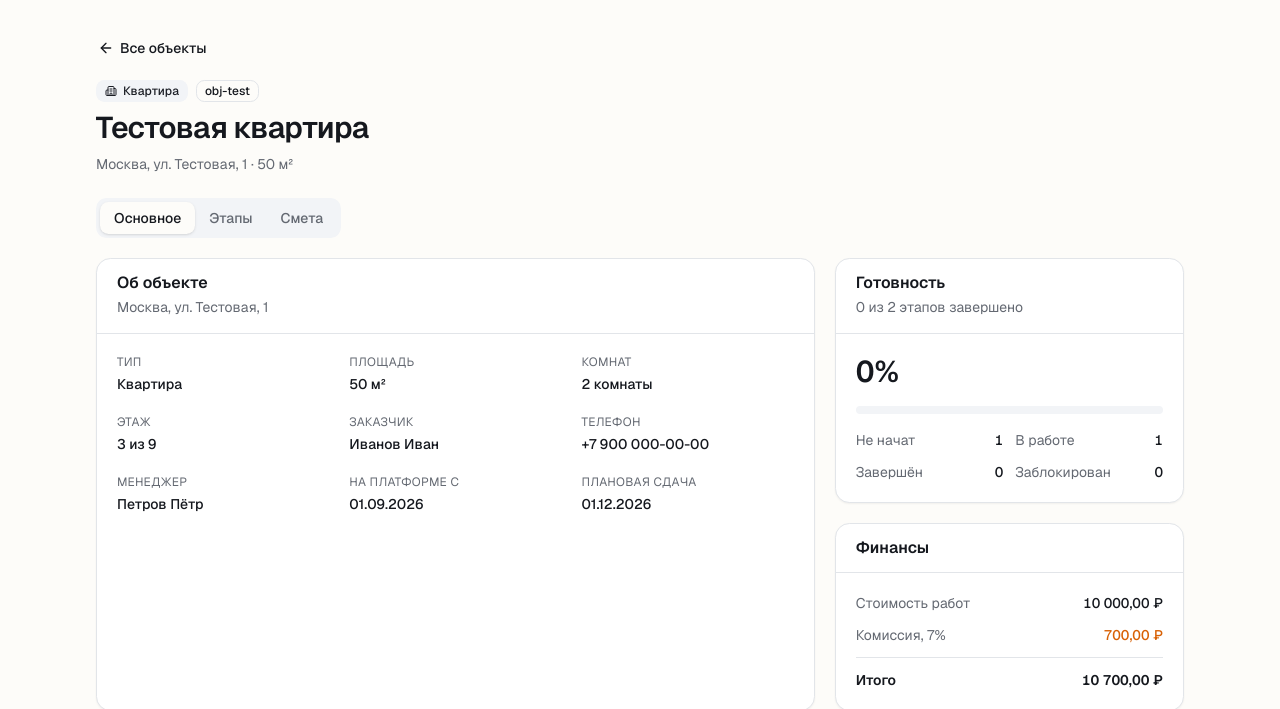
it: ObjectPassportView · вкладки › переключается на «Смета» и показывает таблицу
Click the tab "Смета".
click(302, 218)  # box [266,202,337,234]
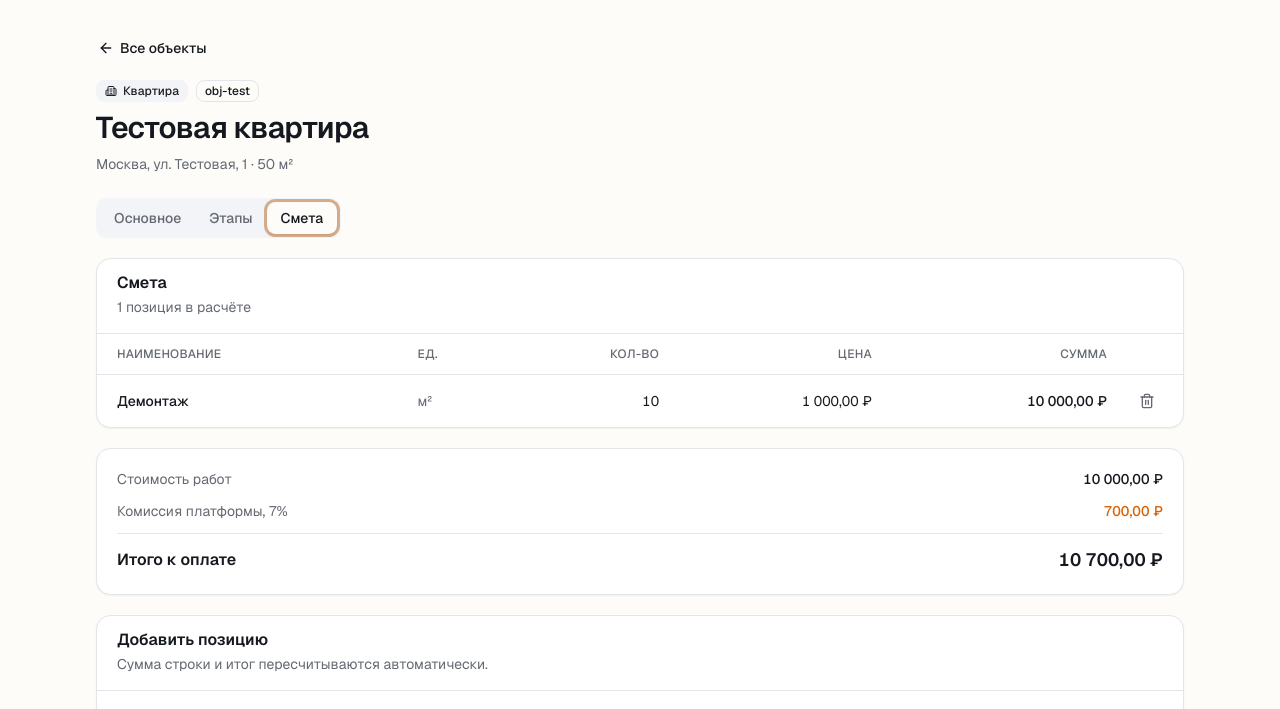
Expected: the table with test id "estimate-table" is shown, [97,334,1183,426]
Expected: the number of rows with test id "estimate-row" is 1, [97,374,1183,426]
